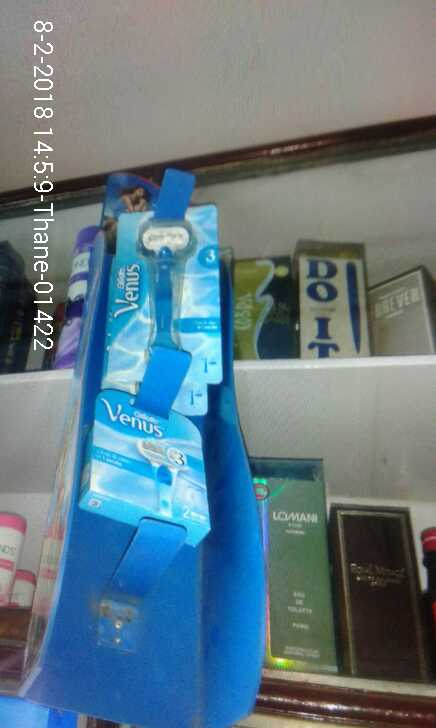beauty: (99, 204, 226, 384), (92, 391, 212, 520)
